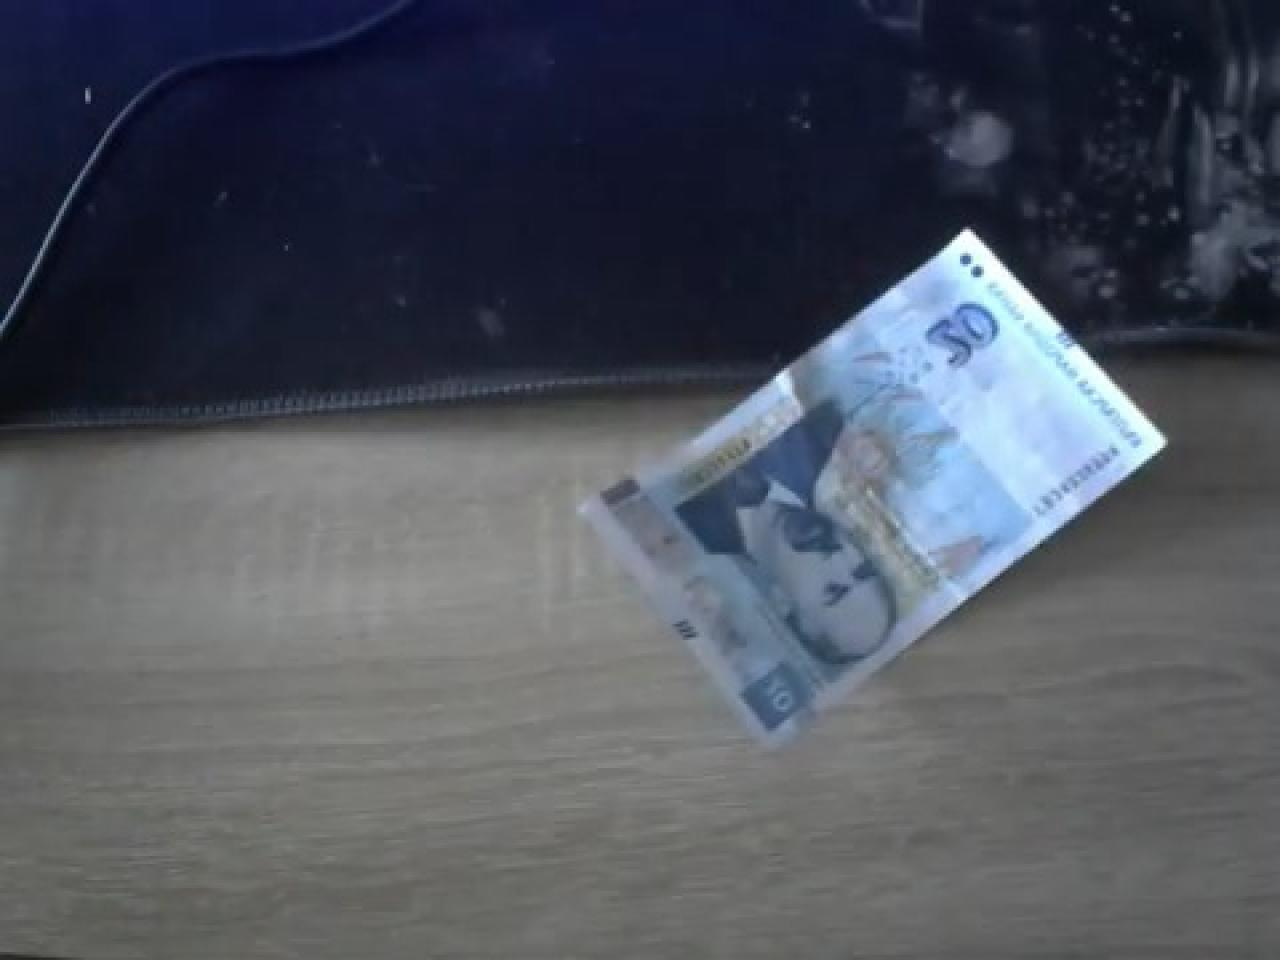20leva: (577, 224, 1171, 749)
